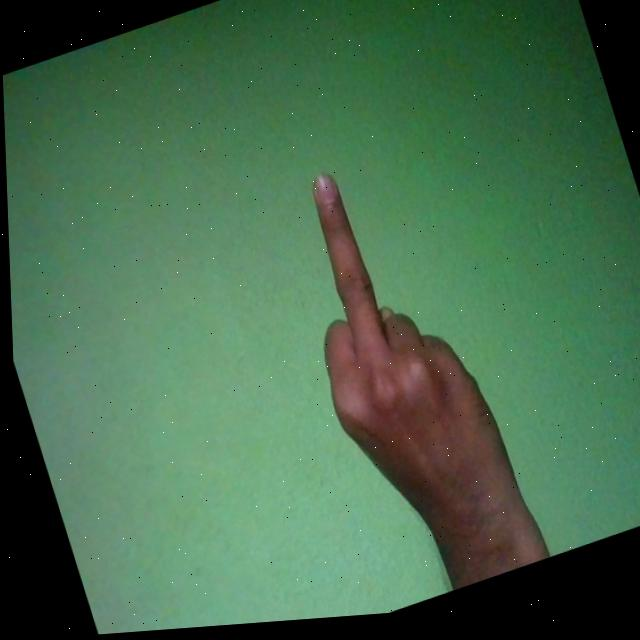Middle Finger: (262, 139, 537, 613)
